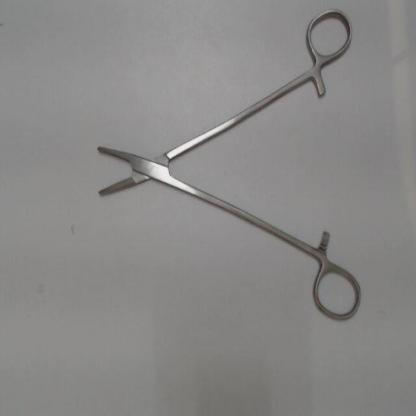8 Mayo Needle Holder: (90, 3, 367, 331)
